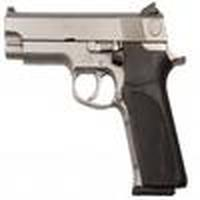gun: (4, 3, 191, 196)
